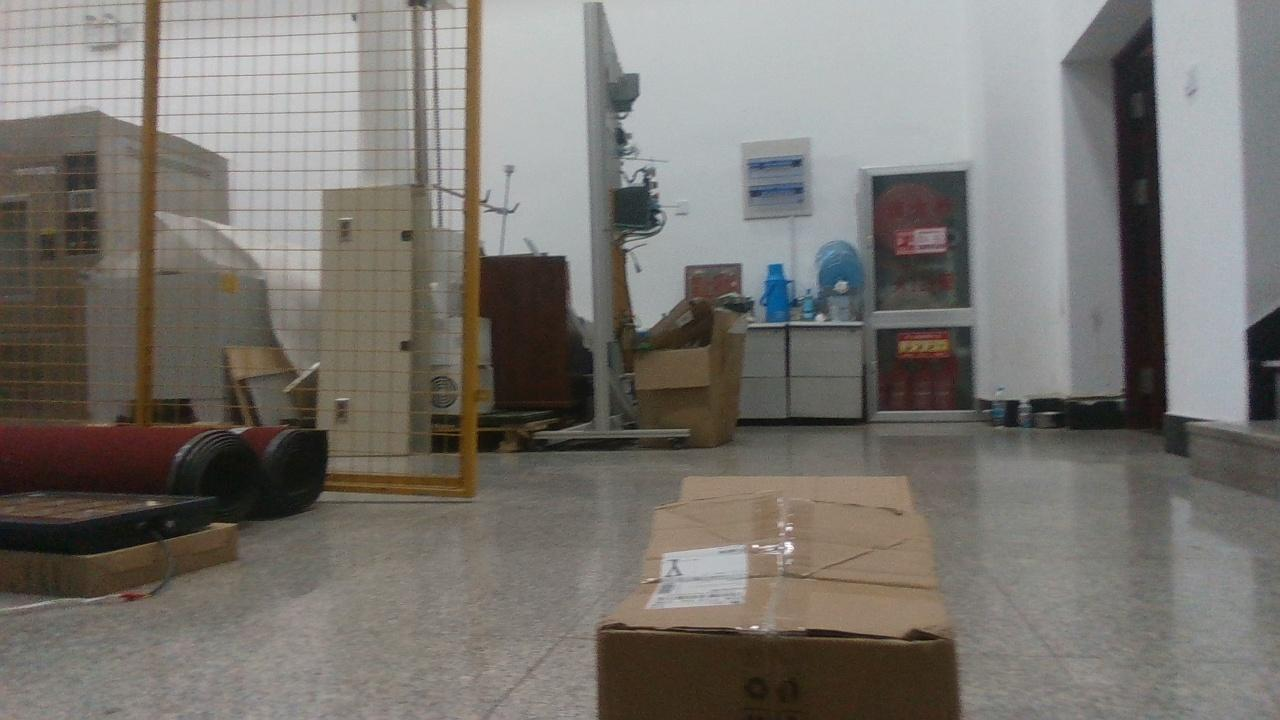box: (598, 478, 960, 719)
